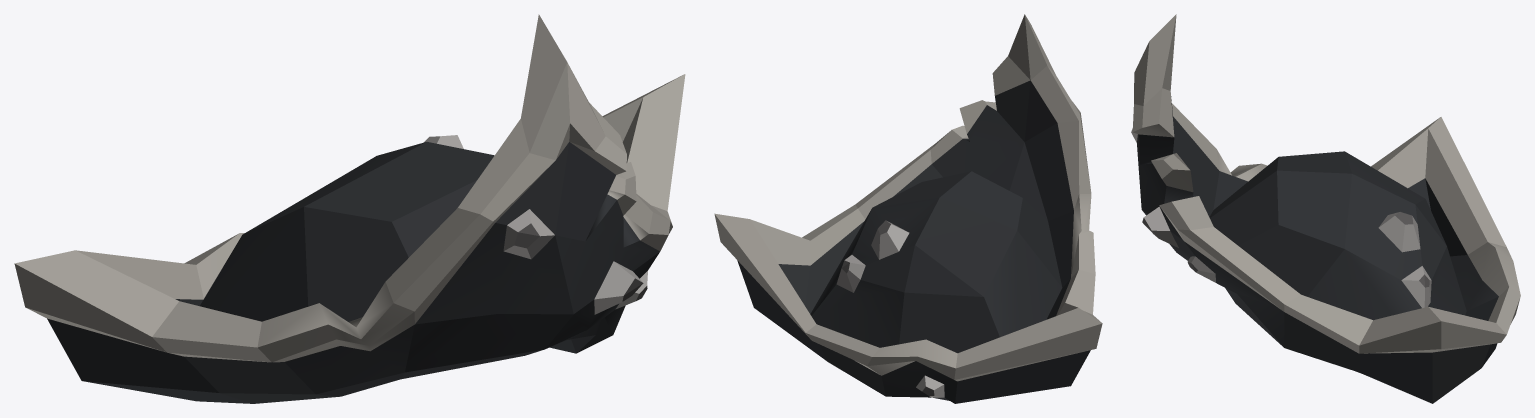
The model's file is SM_Chr_Attach_Hat_01.fbx.
The picture shows the model from 3 angles, left to right: view 1: azimuth 30°, elevation 25°; view 2: azimuth 150°, elevation 25°; view 3: azimuth 270°, elevation 25°; orthographic projection. The views are drawn at different scales.
Parts seen in each view (by area): view 1: SM_Chr_Attach_Hat_01; view 2: SM_Chr_Attach_Hat_01; view 3: SM_Chr_Attach_Hat_01.
Part boxes in pixels (x1,y1,x2,y2): SM_Chr_Attach_Hat_01: [14, 14, 685, 403]; SM_Chr_Attach_Hat_01: [714, 14, 1102, 403]; SM_Chr_Attach_Hat_01: [1131, 14, 1520, 403].
Size of the model in its own units: 66.21 by 47.13 by 49.05.
